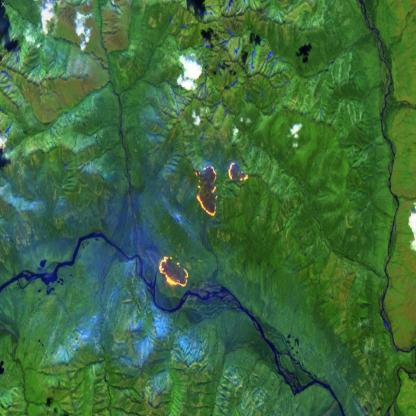fire: (196, 160, 250, 218)
